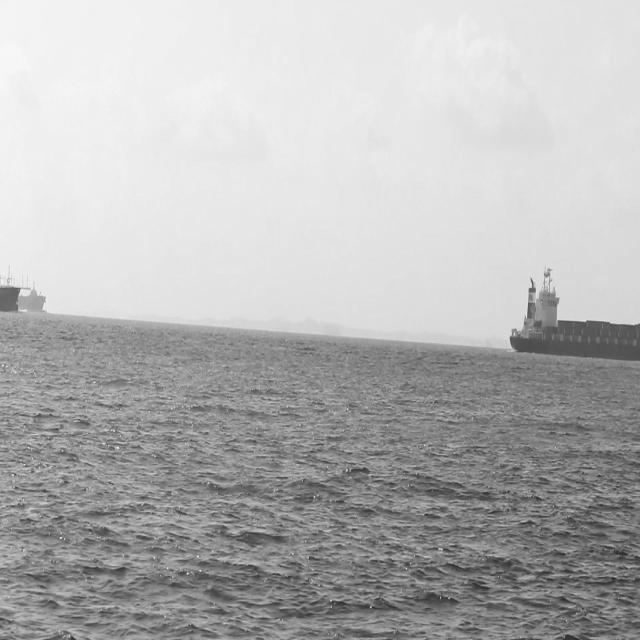ship: (511, 266, 640, 354), (19, 282, 51, 320), (1, 278, 24, 316)
